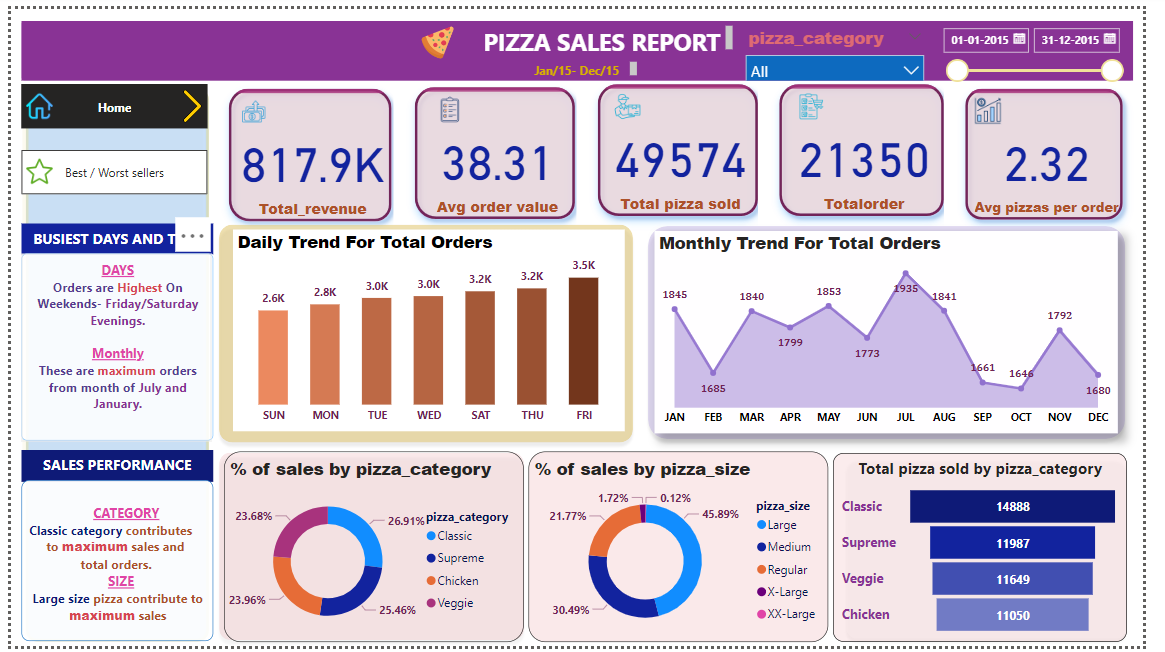

Layout of this report page (visuals, bound fields, positions):
{"tool":"powerbi","page":{"name":"Home","canvas":[1280,720],"ordinal":0},"visuals":[{"type":"cardVisual","fields":{"Data":["pizza_sales.Total_revenue"]},"box":[221.3,65.6,232.8,198.4],"z":0},{"type":"cardVisual","fields":{"Data":["pizza_sales.Avg order value"]},"box":[432.3,64.8,229.9,197.5],"z":1000},{"type":"cardVisual","fields":{"Data":["pizza_sales.Total pizza's sold"]},"box":[639.6,61.5,229.9,197.5],"z":2000},{"type":"cardVisual","fields":{"Data":["pizza_sales.Totalorder"]},"box":[843.6,61.5,234.8,197.5],"z":3000},{"type":"cardVisual","fields":{"Data":["pizza_sales.Average pizzas per order"]},"box":[1054.1,65.6,226.2,196.7],"z":4000},{"type":"shape","box":[11.5,13.1,1255.7,67.2],"z":5000},{"type":"textbox","box":[134.4,408,233.2,43.7],"z":6000},{"type":"textbox","box":[74.5,519.8,263.9,43.7],"z":7000},{"type":"textbox","box":[521.3,13.1,298.4,41],"z":8000},{"type":"image","box":[442,13,79.3,48.6],"z":9000},{"type":"textbox","box":[573.8,54.1,137.7,26.2],"z":10000},{"type":"shape","box":[227.9,236.1,483.6,262.3],"z":11000},{"type":"columnChart","title":"Daily Trend For Total Orders","fields":{"Y":["pizza_sales.Totalorder"],"Category":["pizza_sales.Order day"]},"box":[250.8,249.2,442.6,227.9],"z":12000},{"type":"shape","box":[711.7,236.7,555,256.7],"z":13000},{"type":"areaChart","title":"Monthly Trend For Total Orders","fields":{"Category":["pizza_sales.Order Month"],"Y":["pizza_sales.Totalorder"]},"box":[726.7,250,523.3,228.3],"z":14000},{"type":"shape","box":[227.9,493.4,360.7,227.9],"z":15000},{"type":"shape","box":[936.1,498.4,332.8,221.3],"z":16000},{"type":"donutChart","title":"% of sales by pizza_category","fields":{"Category":["pizza_sales.pizza_category"],"Y":["pizza_sales.Total_revenue"]},"box":[240,500,338.3,215],"z":17000},{"type":"funnel","fields":{"Y":["pizza_sales.Total pizza's sold"],"Category":["pizza_sales.pizza_category"]},"box":[928.3,501.7,331.7,213.3],"z":18000},{"type":"shape","box":[11.7,85,216.7,635],"z":19000},{"type":"textbox","box":[11.5,242.6,216.4,34.4],"z":20000},{"type":"textbox","box":[11.5,277,216.4,211.5],"z":21000},{"type":"textbox","box":[11.5,498.4,216.4,36.1],"z":22000},{"type":"textbox","box":[11.5,532.8,216.4,182],"z":23000},{"type":"slicer","fields":{"Values":["pizza_sales.pizza_category"]},"box":[819.7,13.1,221.3,67.2],"z":24000},{"type":"slicer","fields":{"Values":["pizza_sales.order_date"]},"box":[1041,11.5,224.6,73.8],"z":25000},{"type":"pageNavigator","box":[11.7,85,210,50],"z":26000},{"type":"pageNavigator","box":[11.7,160,210,50],"z":27000},{"type":"image","box":[181.7,85,46.7,50],"z":28000},{"type":"donutChart","title":"% of sales by pizza_size","fields":{"Y":["pizza_sales.Total_revenue"],"Category":["pizza_sales.pizza_size"]},"box":[585,500,338.3,215],"z":29000},{"type":"image","box":[11.7,158.3,40,51.7],"z":30000},{"type":"image","box":[11.7,85,40,50],"z":31000}]}

Visuals, with their boxes in screenshot pixels (x1, y1, x2, y2), scaled from the page's 1280x720 canvas onto the 1165x652 screenshot:
cardVisual - pizza_sales.Total_revenue: <bbox>201, 59, 413, 239</bbox>
cardVisual - pizza_sales.Avg order value: <bbox>393, 59, 603, 238</bbox>
cardVisual - pizza_sales.Total pizza's sold: <bbox>582, 56, 791, 235</bbox>
cardVisual - pizza_sales.Totalorder: <bbox>768, 56, 982, 235</bbox>
cardVisual - pizza_sales.Average pizzas per order: <bbox>959, 59, 1164, 238</bbox>
shape: <bbox>10, 12, 1153, 73</bbox>
textbox: <bbox>122, 369, 335, 409</bbox>
textbox: <bbox>68, 471, 308, 510</bbox>
textbox: <bbox>474, 12, 746, 49</bbox>
image: <bbox>402, 12, 474, 56</bbox>
textbox: <bbox>522, 49, 648, 73</bbox>
shape: <bbox>207, 214, 648, 451</bbox>
"Daily Trend For Total Orders" columnChart: <bbox>228, 226, 631, 432</bbox>
shape: <bbox>648, 214, 1153, 447</bbox>
"Monthly Trend For Total Orders" areaChart: <bbox>661, 226, 1138, 433</bbox>
shape: <bbox>207, 447, 536, 651</bbox>
shape: <bbox>852, 451, 1155, 651</bbox>
"% of sales by pizza_category" donutChart: <bbox>218, 453, 526, 647</bbox>
funnel - pizza_sales.Total pizza's sold x pizza_sales.pizza_category: <bbox>845, 454, 1147, 647</bbox>
shape: <bbox>11, 77, 208, 651</bbox>
textbox: <bbox>10, 220, 207, 251</bbox>
textbox: <bbox>10, 251, 207, 442</bbox>
textbox: <bbox>10, 451, 207, 484</bbox>
textbox: <bbox>10, 482, 207, 647</bbox>
slicer - pizza_sales.pizza_category: <bbox>746, 12, 947, 73</bbox>
slicer - pizza_sales.order_date: <bbox>947, 10, 1152, 77</bbox>
pageNavigator: <bbox>11, 77, 202, 122</bbox>
pageNavigator: <bbox>11, 145, 202, 190</bbox>
image: <bbox>165, 77, 208, 122</bbox>
"% of sales by pizza_size" donutChart: <bbox>532, 453, 840, 647</bbox>
image: <bbox>11, 143, 47, 190</bbox>
image: <bbox>11, 77, 47, 122</bbox>
